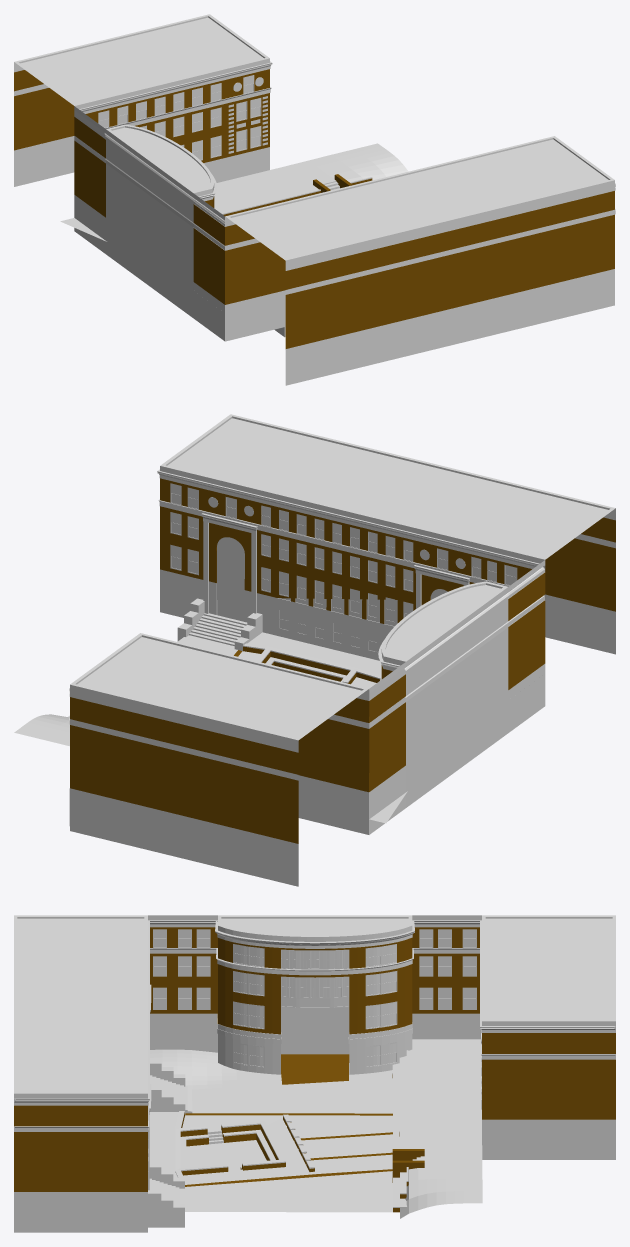
The model's file is cech entrance -joined.fbx.
3 views of the same model, one above another, from view 1: azimuth 30°, elevation 25°; view 2: azimuth 150°, elevation 25°; view 3: azimuth 270°, elevation 25° (orthographic). The views are drawn at different scales.
Visible parts, largest first — view 1: 00building-no-windows-bricks; view 2: 00building-no-windows-bricks; view 3: 00building-no-windows-bricks.
Part boxes in pixels (box(x1,y1,x2,y2)): 00building-no-windows-bricks: box(14, 14, 615, 385); 00building-no-windows-bricks: box(14, 414, 615, 886); 00building-no-windows-bricks: box(14, 915, 615, 1232).
Bounding box in the file's own units: 23544 × 8873 × 32019.
